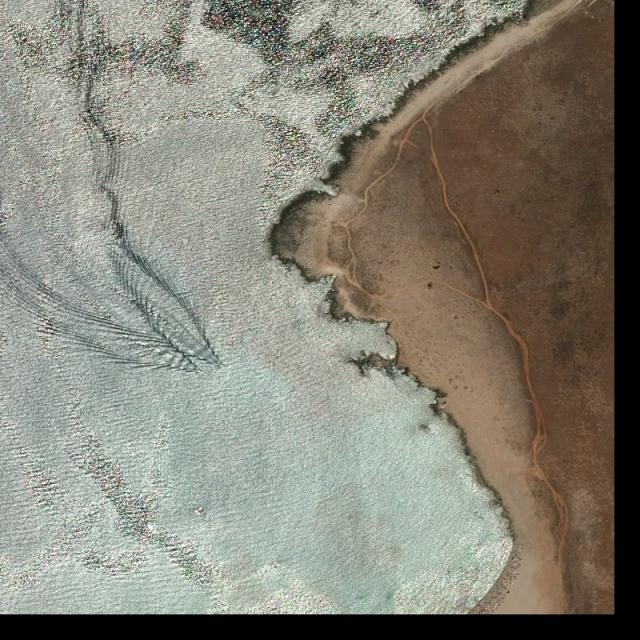ship: (146, 523, 158, 534), (219, 364, 228, 371), (273, 561, 282, 568), (271, 564, 278, 570), (198, 370, 205, 376), (198, 507, 205, 513), (194, 510, 201, 515)
